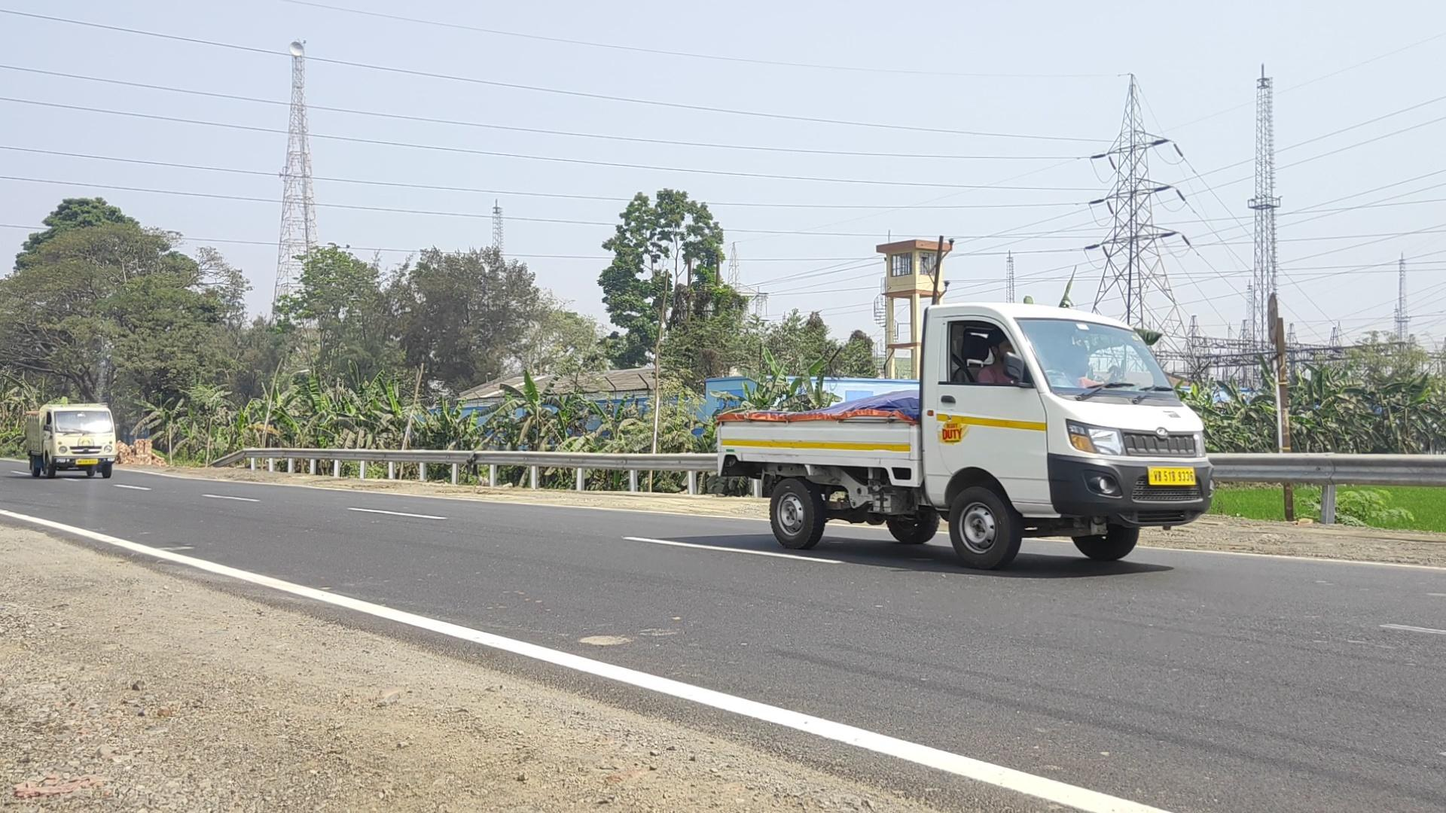van: (718, 302, 1215, 571), (25, 403, 120, 479)
